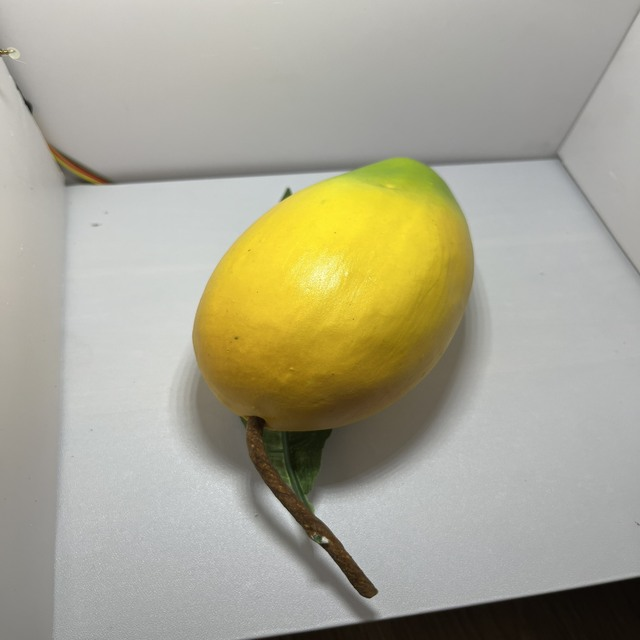Xoai: (152, 97, 530, 500)
